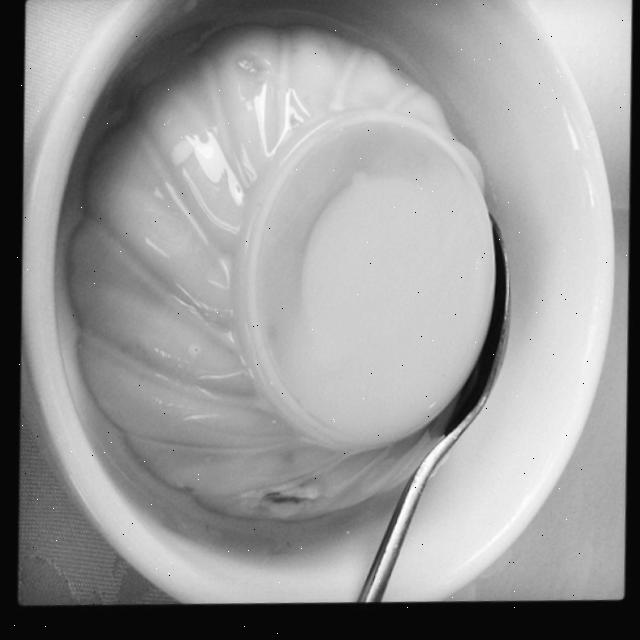蛋糕甜品: (10, 0, 615, 611)
